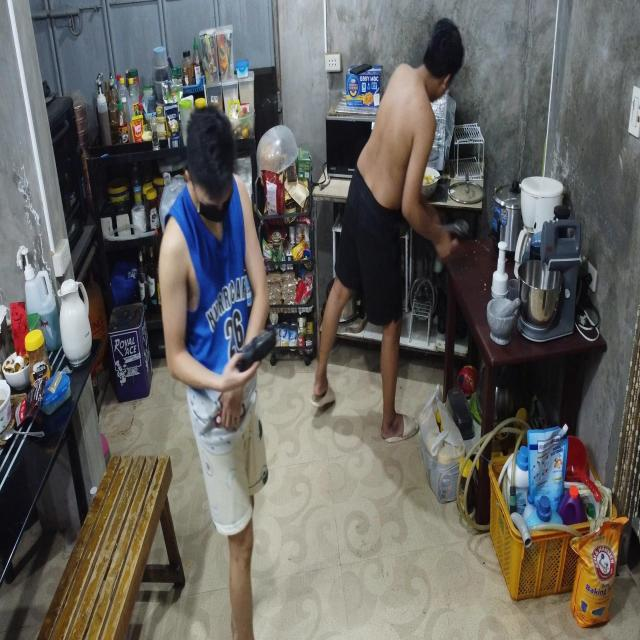scissor: (199, 400, 246, 437)
